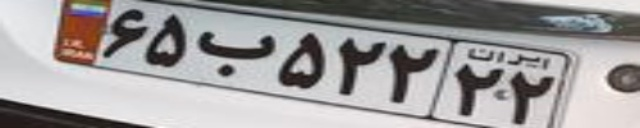2: (386, 42, 438, 104), (453, 63, 506, 119), (336, 38, 384, 95), (509, 69, 555, 125)
5: (279, 31, 326, 88), (146, 11, 187, 67)
6: (102, 6, 145, 62)
be: (194, 31, 277, 76)
